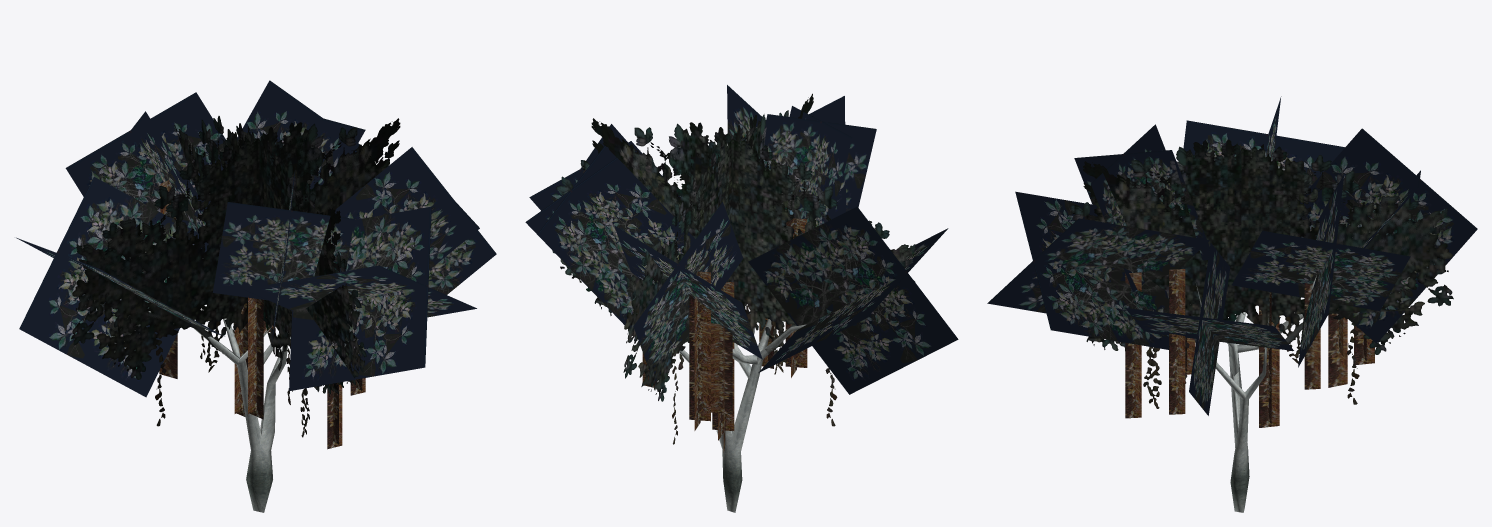
The model's file is decd_tallbirchb_l1.fbx.
3 views of the same model, side by side, from view 1: azimuth 30°, elevation 25°; view 2: azimuth 150°, elevation 25°; view 3: azimuth 270°, elevation 25° (orthographic). The views are drawn at different scales.
Parts seen in each view (by area): view 1: mesh_node; view 2: mesh_node; view 3: mesh_node.
Boxes of the visible parts, left/top/right/bottom form: mesh_node: left=16, top=80, right=496, bottom=512; mesh_node: left=525, top=85, right=958, bottom=512; mesh_node: left=987, top=96, right=1477, bottom=512.
Bounding box in the file's own units: 69.81 × 62.08 × 68.57.
